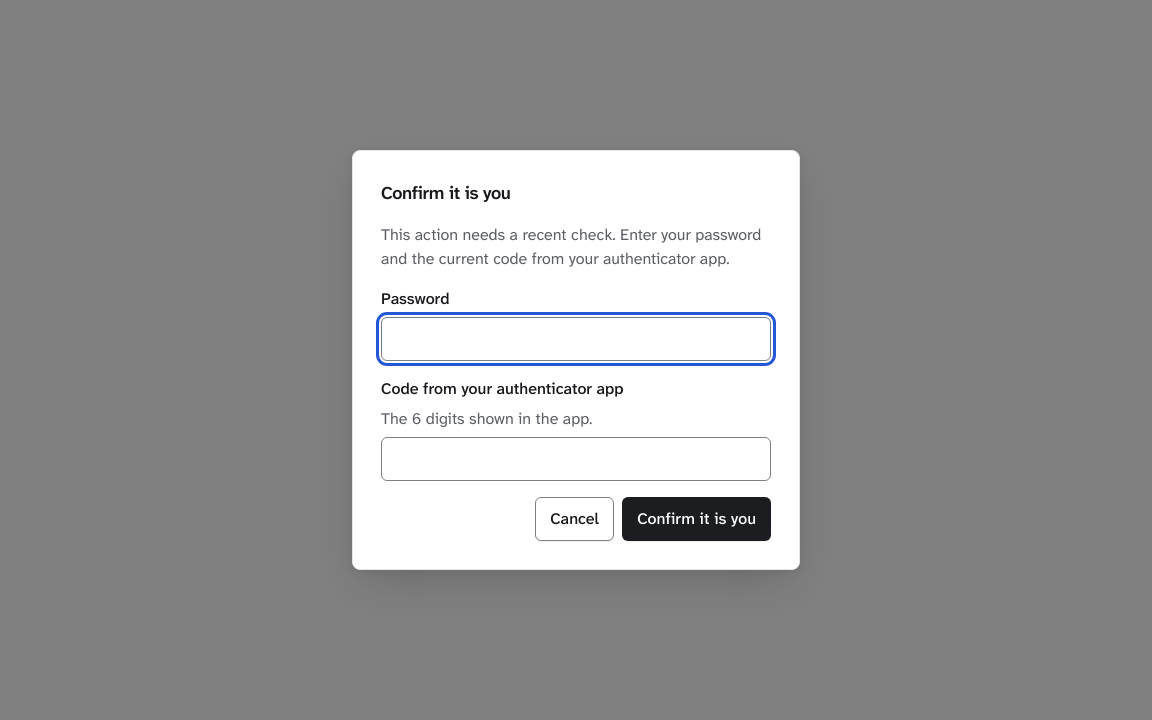
the step-up dialog with the step-up route › shows the one message for a refusal, and stays open
In the password field labelled "Password": (576, 339) 381,317 -> 771,361, type "correct horse battery"
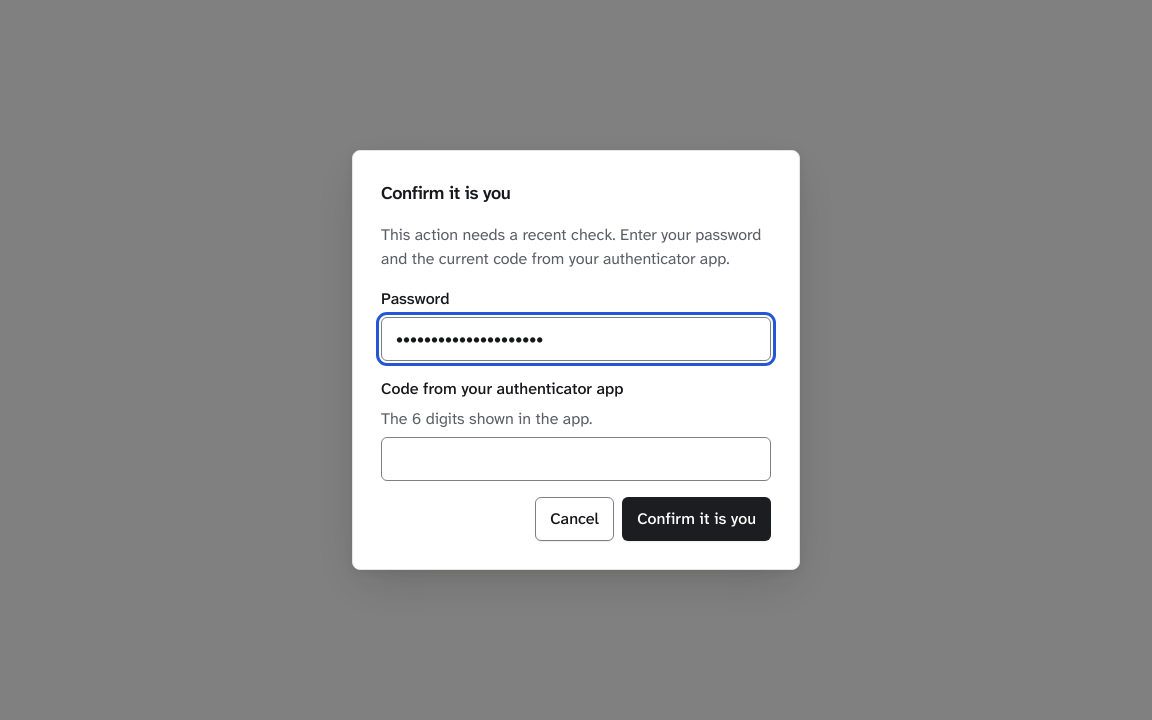
In the field labelled "Code from your authenticator app": (576, 459) 381,437 -> 771,481, type "123456"
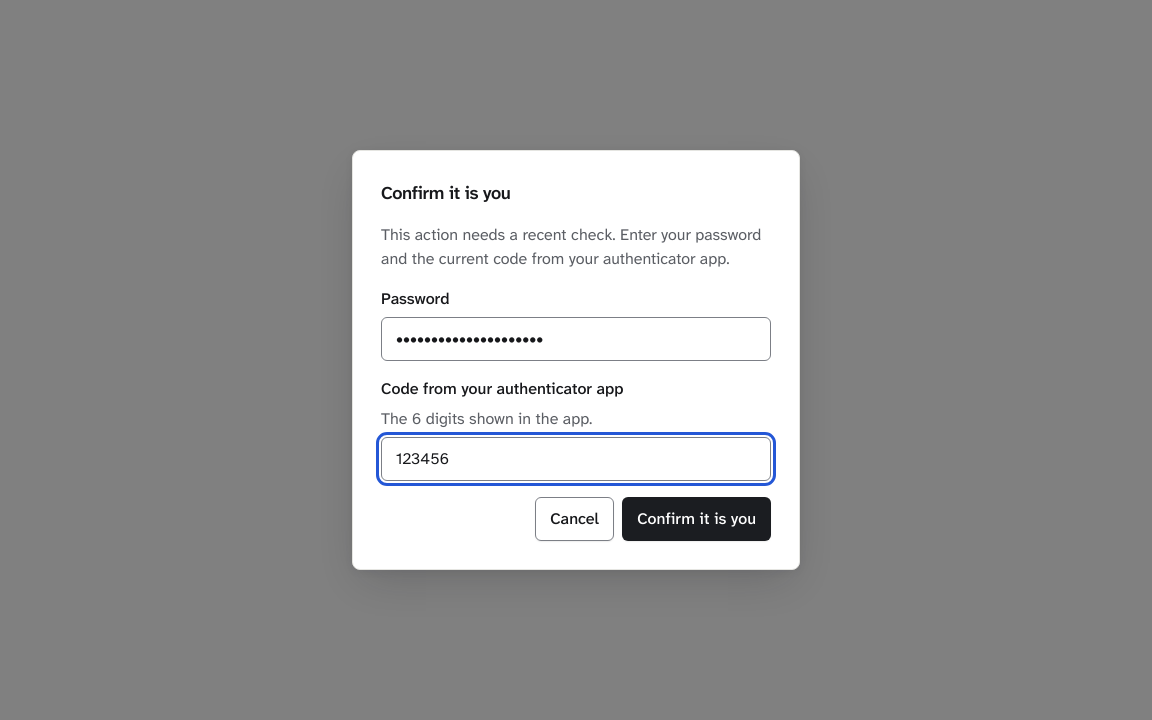
Click the button "Confirm it is you": (697, 519) 622,497 -> 771,541
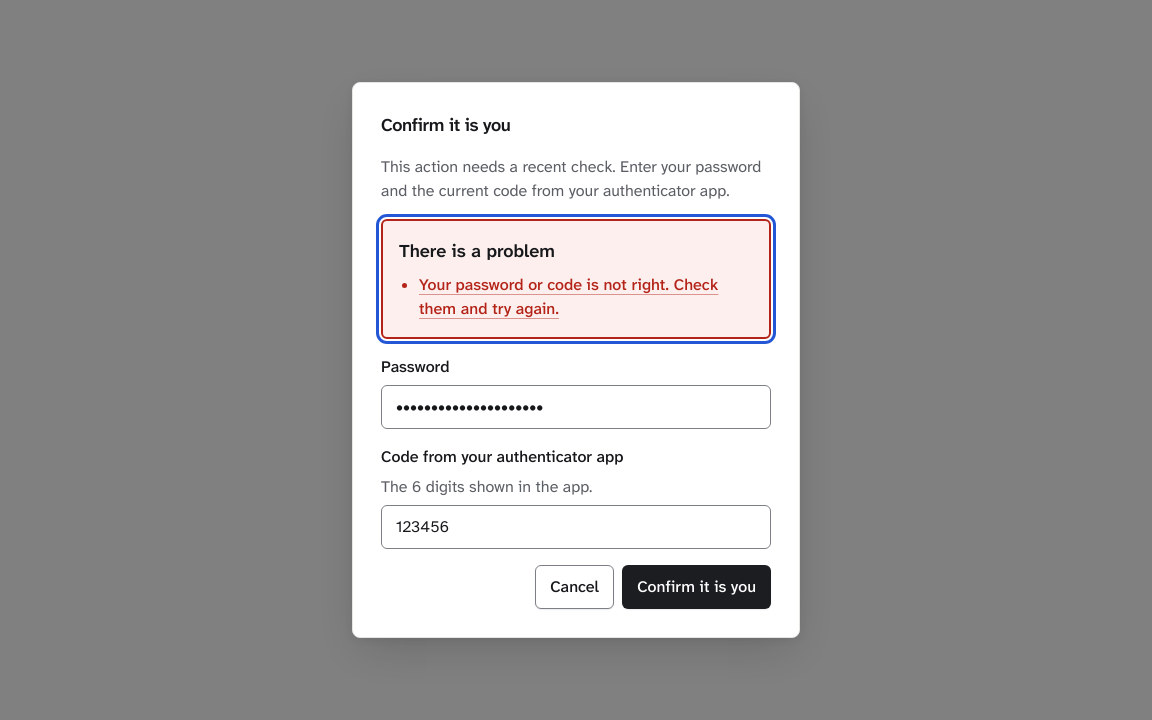
Now the link "Your password or code is not right. Check them and try again." is shown, box 419,273 -> 753,321
